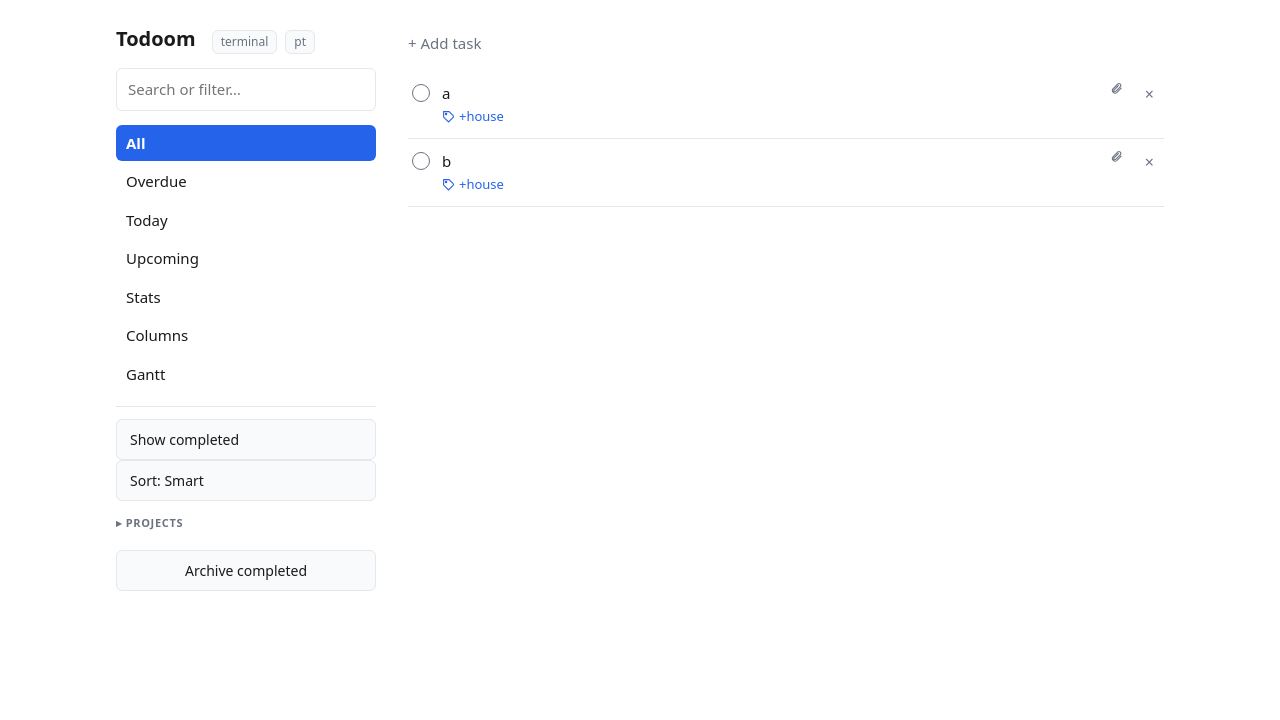
Test: label sections › expands to rows with open-task counts
Step 1. Click the button with class "labels__heading" → [154, 522], box [116,515,376,532]
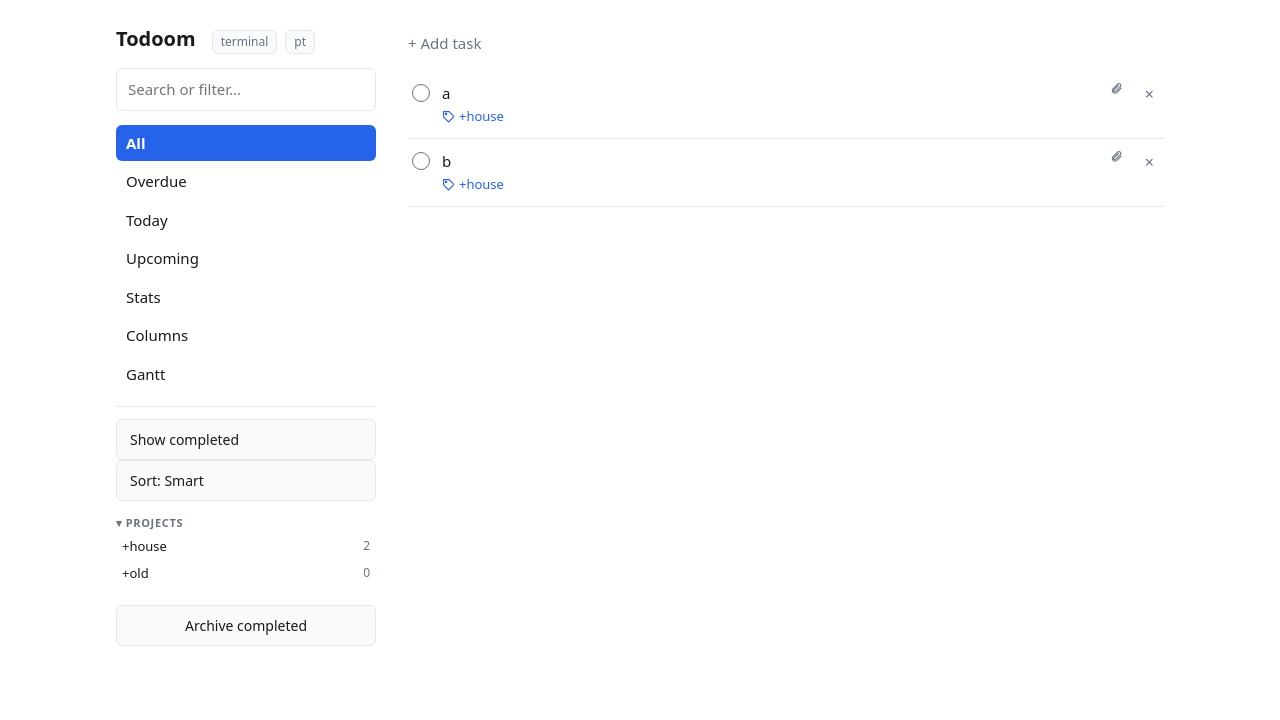
Expected: the button with class "labels__heading" reads "▾ Projects", [116,515,376,532]
